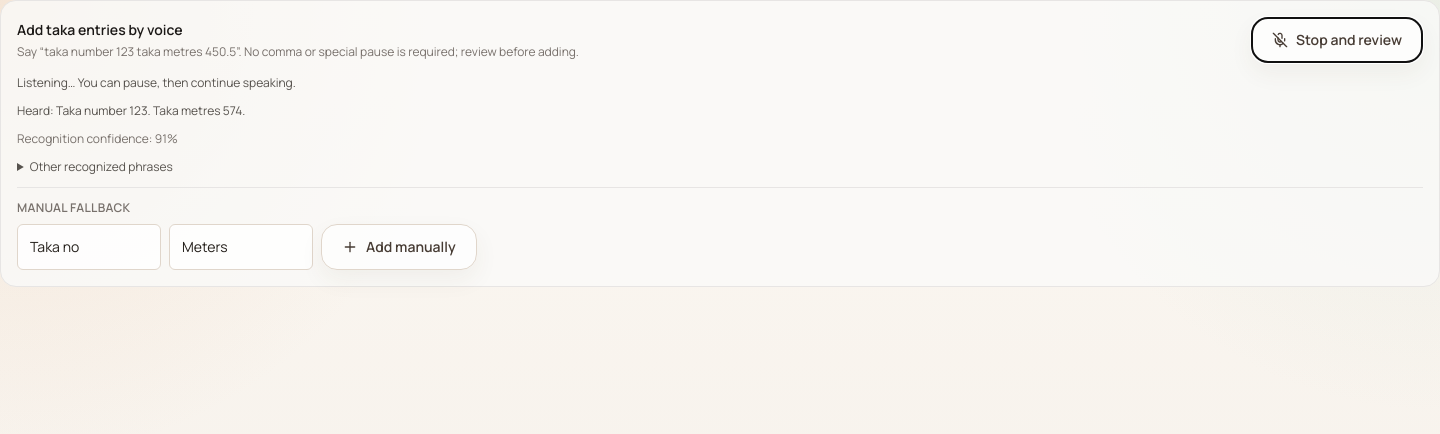
Test: TakaVoiceInput › parses a paused, punctuation-added phrase without requiring a comma
Earlier steps of the test are not shown.
Click the button "Stop and review" at [1337, 40], box [1251,17,1423,63]
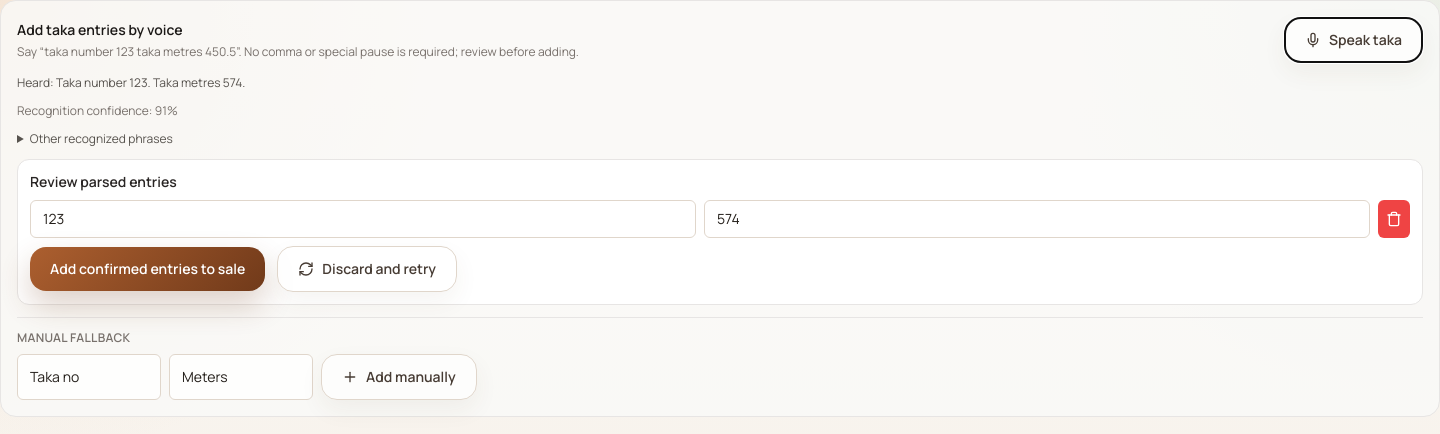
Check: the 1st number field showing "123" is shown, box [30,200,696,238]
Check: the 2nd number field showing "574" is shown, box [704,200,1370,238]
